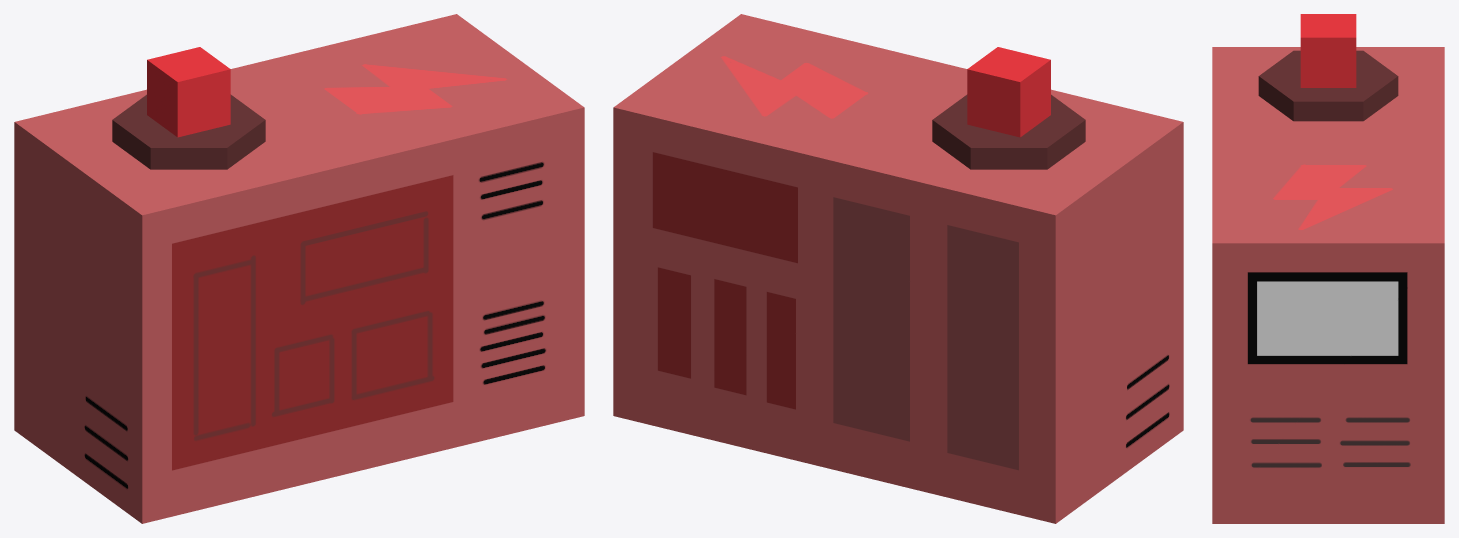
The model's file is Tower.gltf.
3 renders of one model, left to right at view 1: azimuth 30°, elevation 25°; view 2: azimuth 150°, elevation 25°; view 3: azimuth 270°, elevation 25°, orthographic. The views are drawn at different scales.
Visible parts, largest first — view 1: Cube; view 2: Cube; view 3: Cube.
Part boxes in pixels (bbox=[...]): Cube: bbox=[14, 14, 584, 523]; Cube: bbox=[613, 14, 1183, 523]; Cube: bbox=[1212, 14, 1444, 523].
Size of the model in its own units: 3 by 2.5 by 1.5.
1 material, 1 textured.
